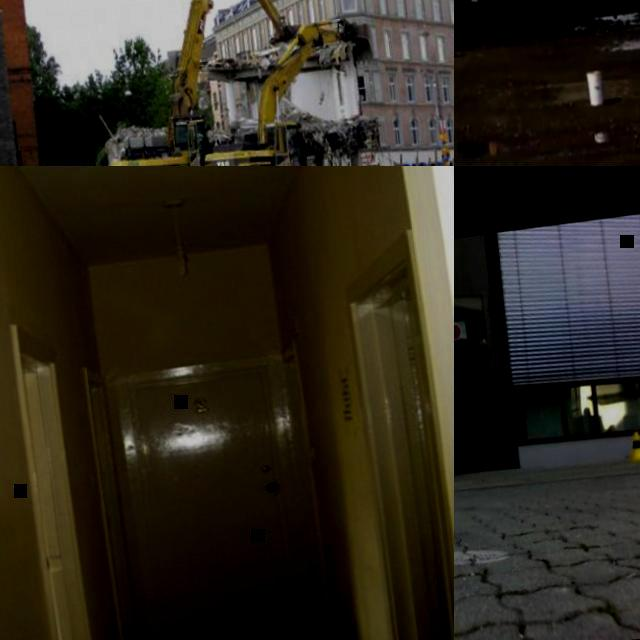machinery: (75, 0, 321, 166), (186, 10, 372, 166), (454, 0, 614, 63)
safety_cone: (625, 431, 640, 462)
